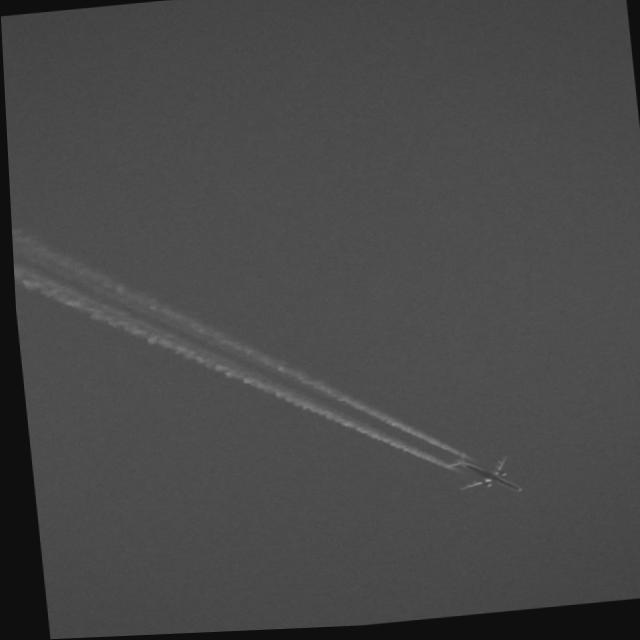aeroplane: (434, 449, 524, 506)
